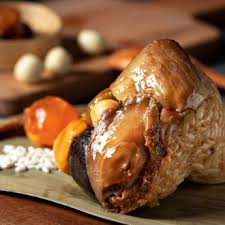zongzi: (56, 39, 224, 212)
